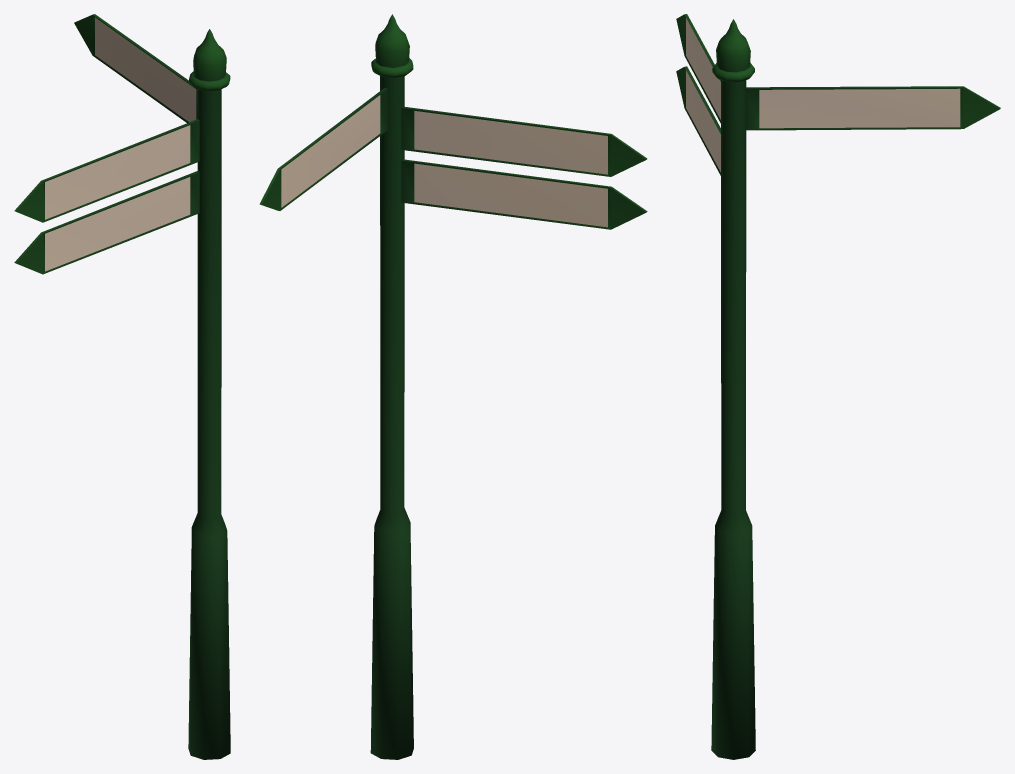
File: MetalDirectionSign_Type2.fbx
3 renders of one model, left to right at view 1: azimuth 30°, elevation 25°; view 2: azimuth 150°, elevation 25°; view 3: azimuth 270°, elevation 25°, orthographic.
Parts seen in each view (by area): view 1: MetalDirectionSign_Type2; view 2: MetalDirectionSign_Type2; view 3: MetalDirectionSign_Type2.
Boxes of the visible parts, <box> form: MetalDirectionSign_Type2: <box>14,14,230,759</box>; MetalDirectionSign_Type2: <box>259,14,647,759</box>; MetalDirectionSign_Type2: <box>676,14,1000,759</box>.
Bounding box in the file's own units: 99.94 × 288 × 115.
